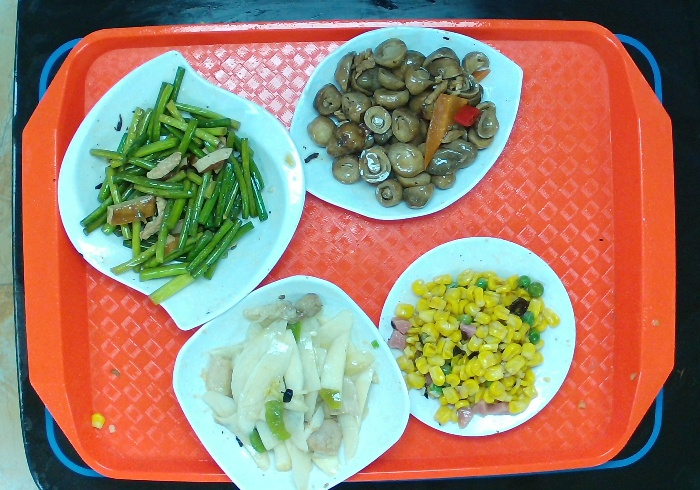RJxy-Da_Du_Pan: (284, 23, 530, 229)
RJxy-Shuang_Jiao_Pan: (49, 46, 309, 339)
RJxy-Si_Fang_Wan: (170, 270, 412, 490)
RJxy-Xiao_Yuan_Die: (371, 231, 580, 444)
